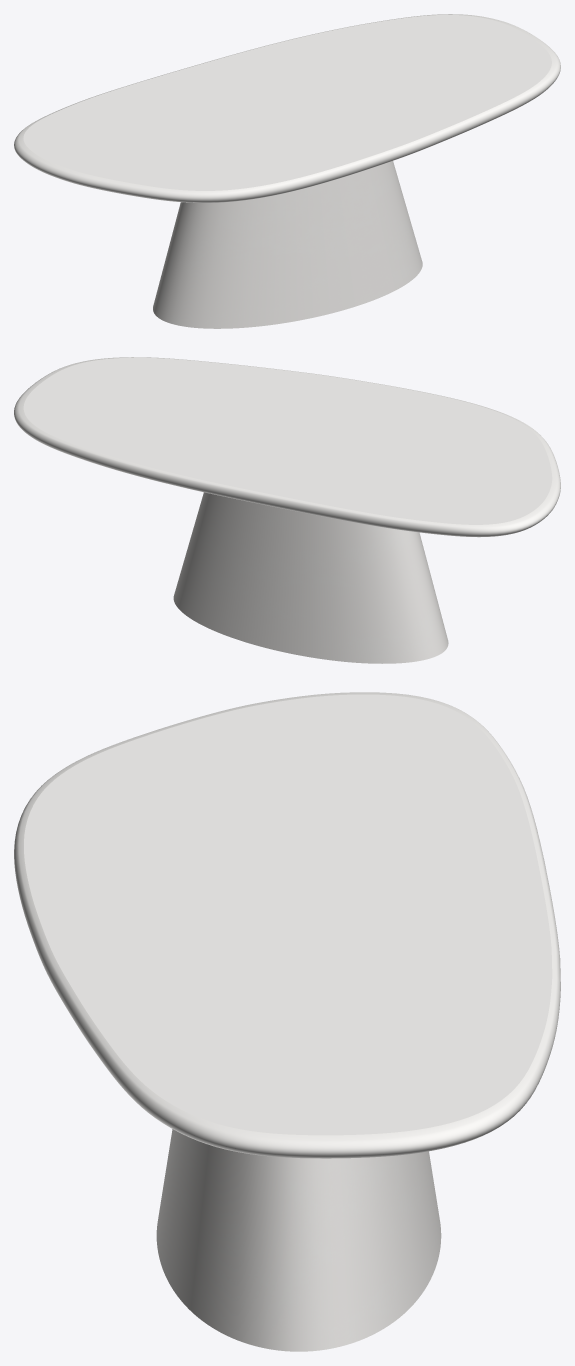
The model's file is purewhite_leaf2_round_eqone.glb.
3 renders of one model, top to bottom at view 1: azimuth 30°, elevation 25°; view 2: azimuth 150°, elevation 25°; view 3: azimuth 270°, elevation 25°, orthographic. The views are drawn at different scales.
Visible parts, largest first — view 1: round_leaf2, eqone; view 2: round_leaf2, eqone; view 3: round_leaf2, eqone.
Boxes of the visible parts, x1,y1,x2,y2 form: round_leaf2: (14,14,560,202); eqone: (153,161,422,328); round_leaf2: (14,357,560,537); eqone: (173,492,448,663); round_leaf2: (14,692,560,1158); eqone: (156,1129,441,1351).
Bounding box in the file's own units: 7.5 × 2.52 × 3.8.
1 material, 1 textured.
